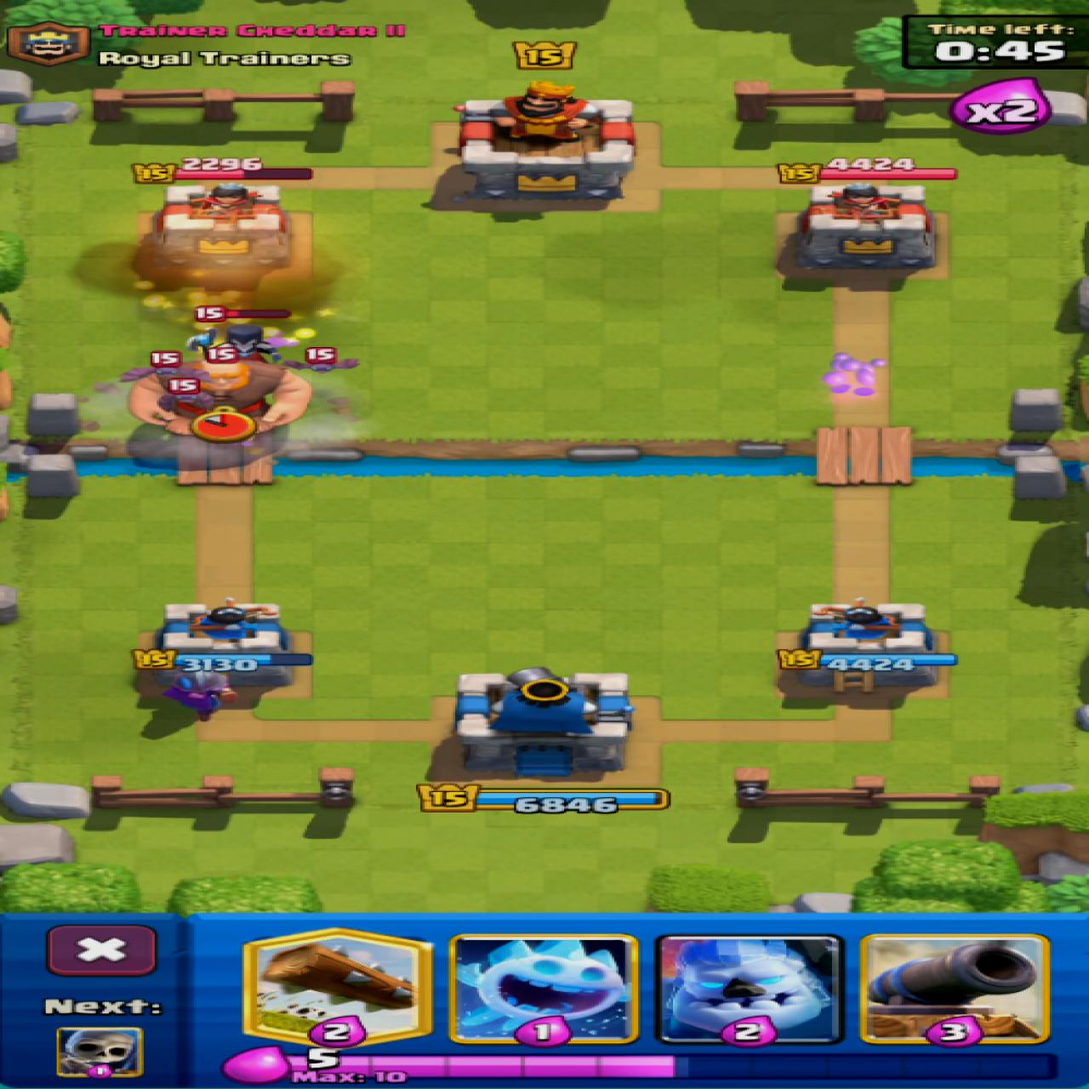Enemy-Bat: (122, 352, 209, 381), (122, 365, 205, 388), (283, 348, 357, 373), (159, 378, 203, 408)
Enemy-KingTower: (455, 82, 634, 201)
Enemy-NightWitch: (187, 304, 290, 360), (222, 321, 285, 362)
Enemy-PrincessTower: (142, 183, 290, 289), (791, 184, 934, 278)
